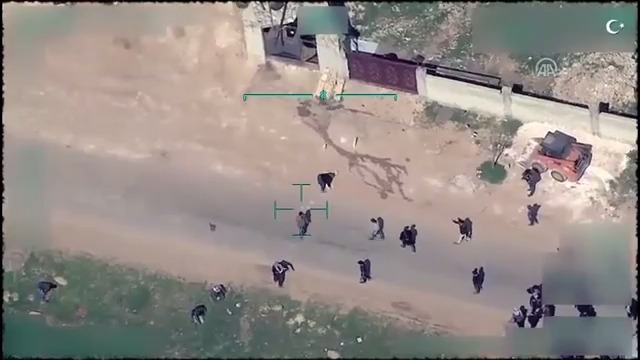insan: (397, 223, 418, 254), (270, 258, 288, 288), (367, 214, 381, 243), (470, 266, 484, 294), (359, 254, 369, 287)
